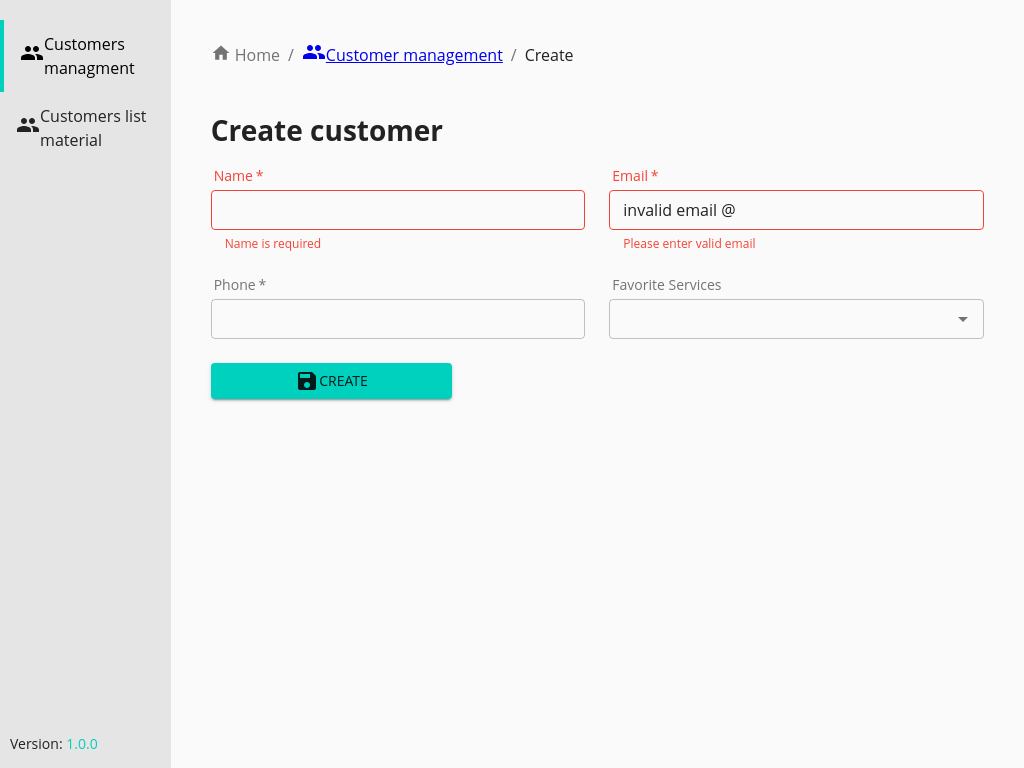
Test: Customers: Create Customer › Customer Form component › Test phone input as Controlled component
The image size is (1024, 768).
Type "01025930919" into the field named "phone" at [399, 319], box x1=211 y1=299 x2=586 y2=339
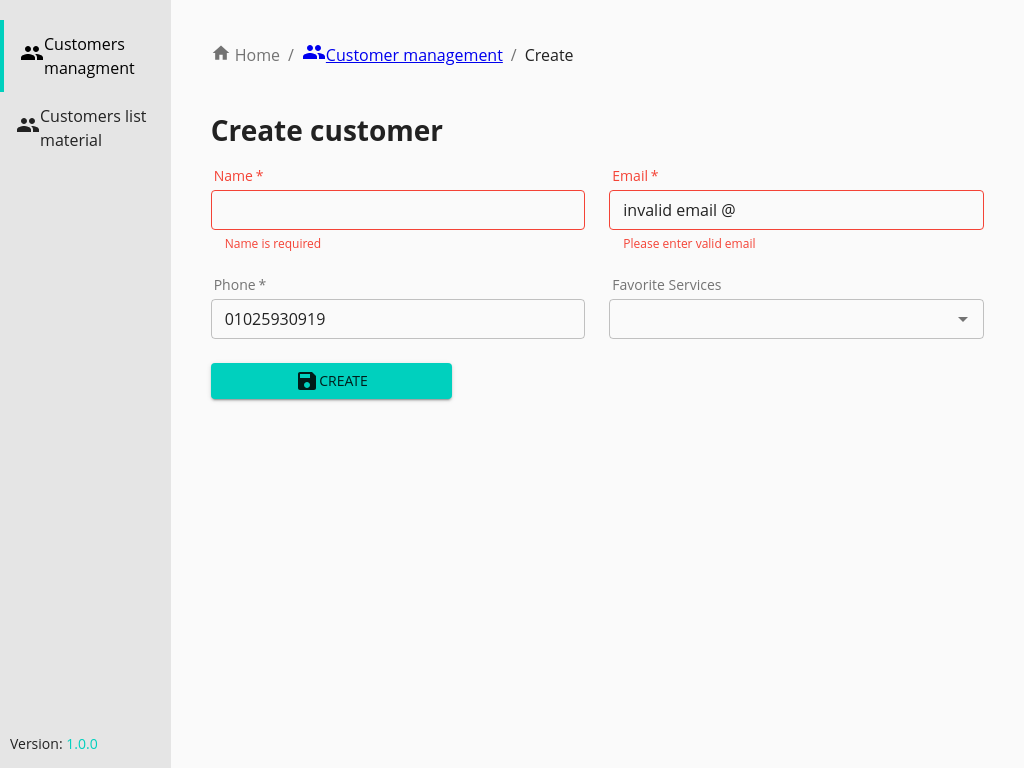
Clear the field named "phone" at [399, 319], box x1=211 y1=299 x2=586 y2=339
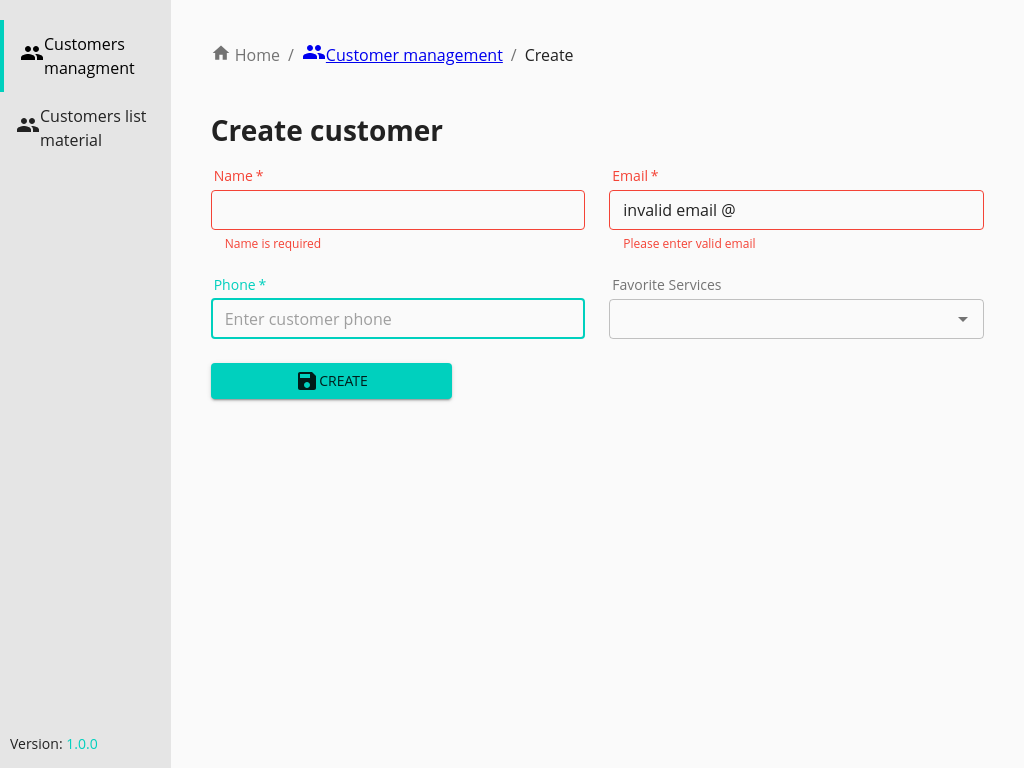
Leave the field named "phone", box x1=211 y1=299 x2=586 y2=339
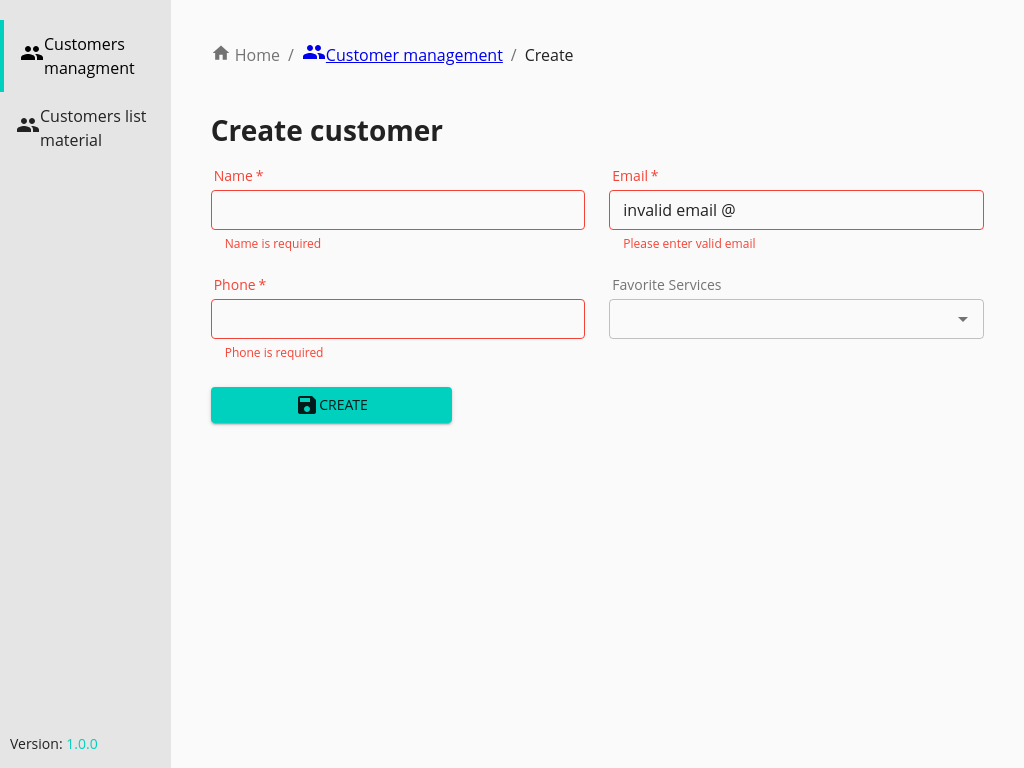
expect the text with id "input-text-phone-Phone-helper-text" reads "Phone is required": met, box x1=225 y1=344 x2=324 y2=361
Type "33" into the field named "phone" at [399, 319], box x1=211 y1=299 x2=586 y2=339
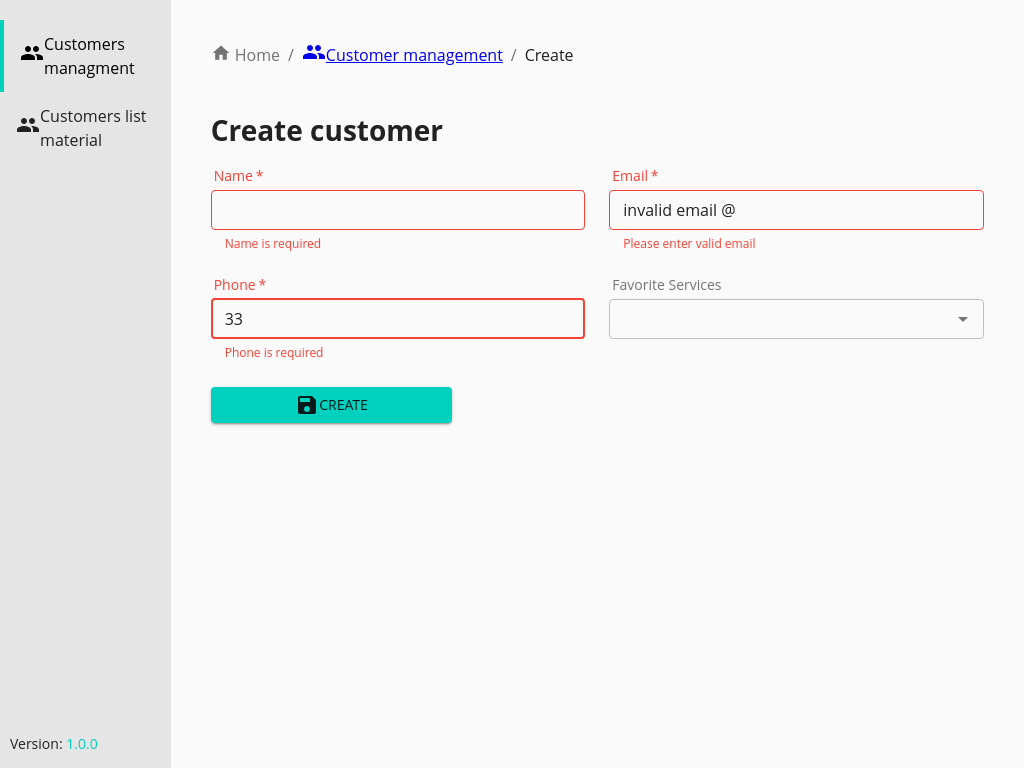
Leave the field named "phone", box x1=211 y1=299 x2=586 y2=339
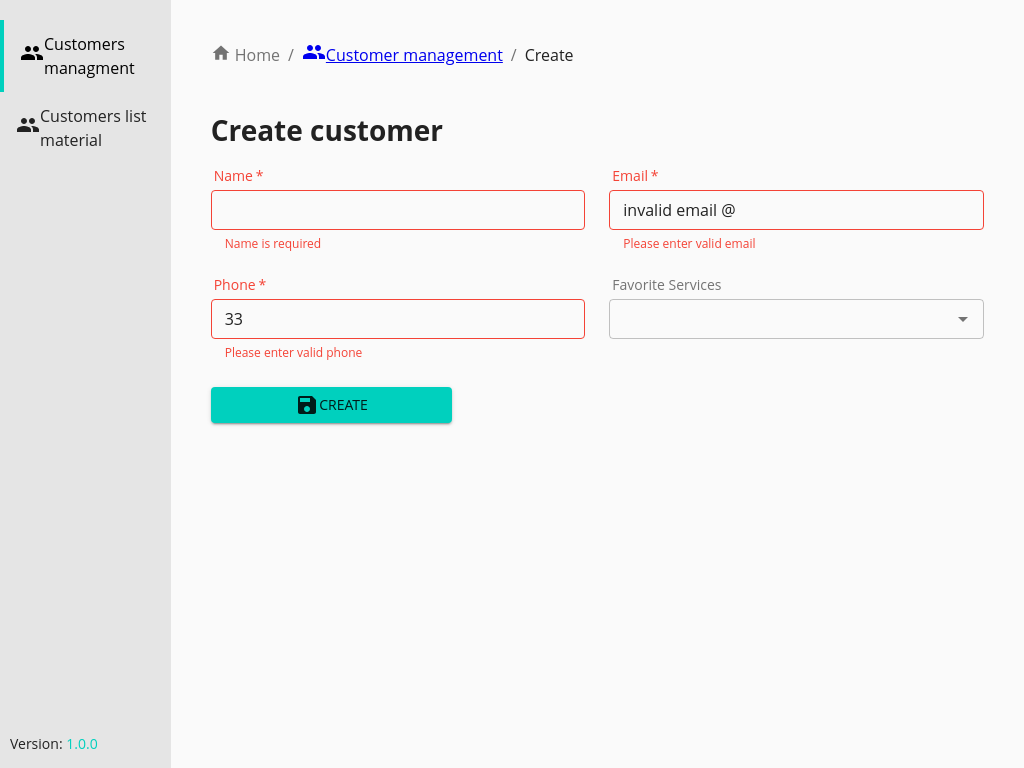
expect the text "Please enter valid phone" is shown: met, box x1=225 y1=344 x2=362 y2=361
expect the text with id "input-text-phone-Phone-helper-text" reads "Please enter valid phone": met, box x1=225 y1=344 x2=363 y2=361
